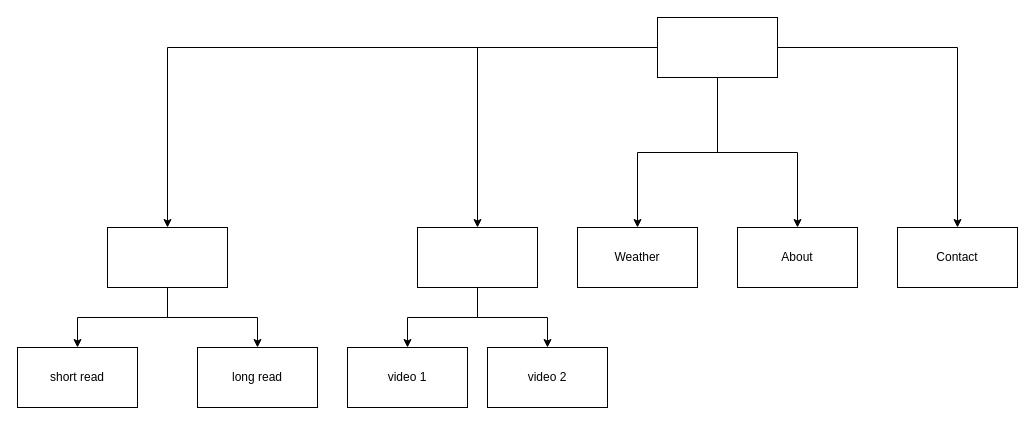
The diagram is 1035 pixels wide and 425 high, and some of its shapes have lost their labels. Each missing label, with the centre of its shape:
"Articles" belongs at point (167, 257).
"Home" belongs at point (717, 47).
"Videos" belongs at point (477, 257).
